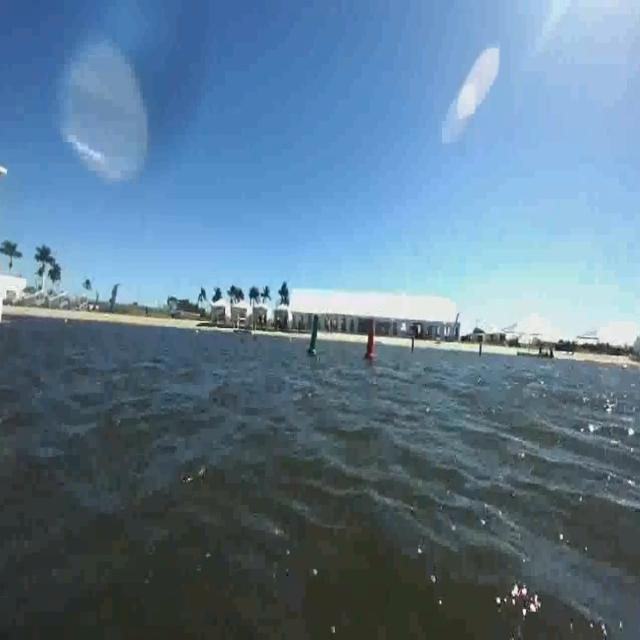green-column-buoy: (305, 307, 324, 371)
red-column-buoy: (363, 321, 378, 363)
